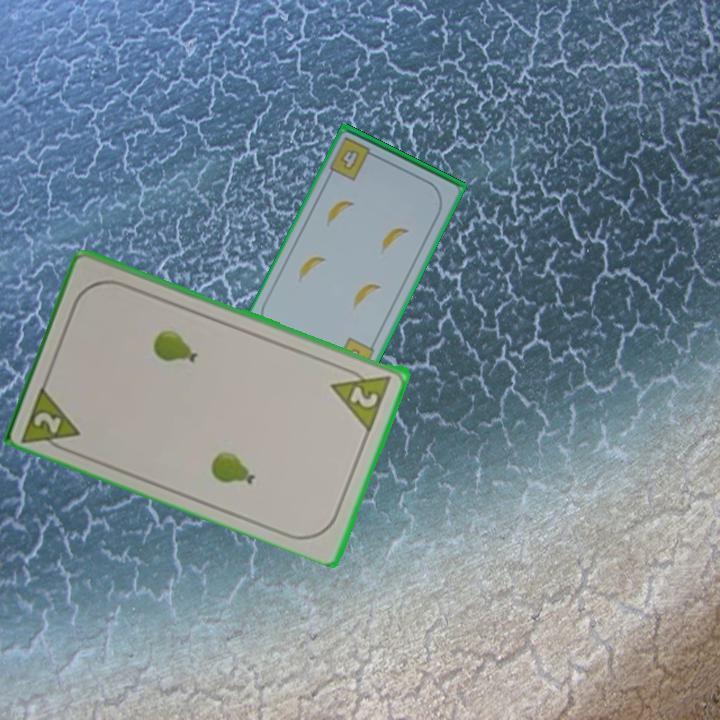2p: (18, 379, 84, 457), (328, 361, 395, 432)
4b: (326, 133, 380, 183)
